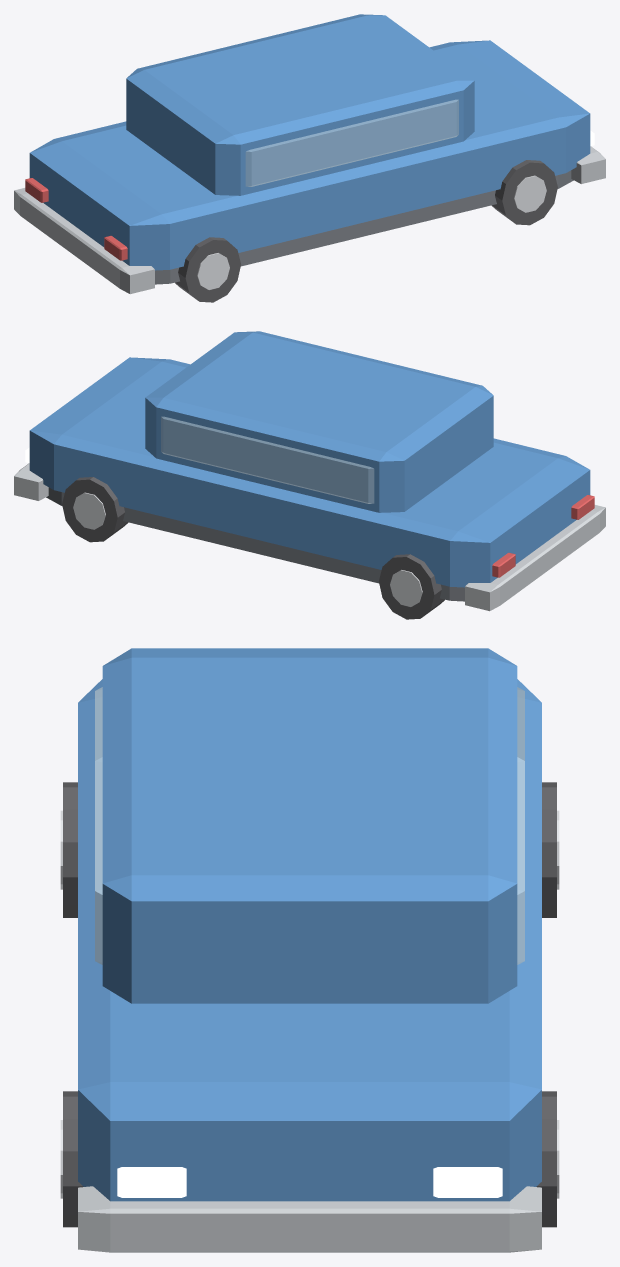
The model's file is b03_five_door_fastback.glb.
3 views of the same model, one above another, from view 1: azimuth 30°, elevation 25°; view 2: azimuth 150°, elevation 25°; view 3: azimuth 270°, elevation 25° (orthographic). The views are drawn at different scales.
Parts seen in each view (by area): view 1: b03_five_door_fastback; view 2: b03_five_door_fastback; view 3: b03_five_door_fastback.
Part boxes in pixels (x1=…): b03_five_door_fastback: x1=14, y1=14, x2=605, y2=302; b03_five_door_fastback: x1=14, y1=331, x2=605, y2=619; b03_five_door_fastback: x1=60, y1=648, x2=559, y2=1252.
Size of the model in its own units: 5.11 by 1.48 by 2.3.
